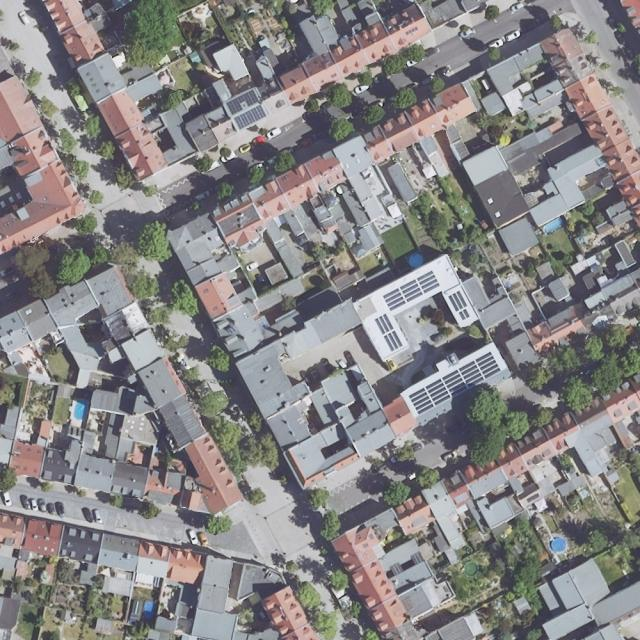PV: (409, 351, 501, 414), (384, 270, 440, 310), (217, 204, 261, 238), (374, 313, 403, 353), (438, 616, 475, 640), (225, 89, 259, 115), (235, 105, 266, 129), (447, 290, 470, 320)
ST: (401, 596, 415, 612)
